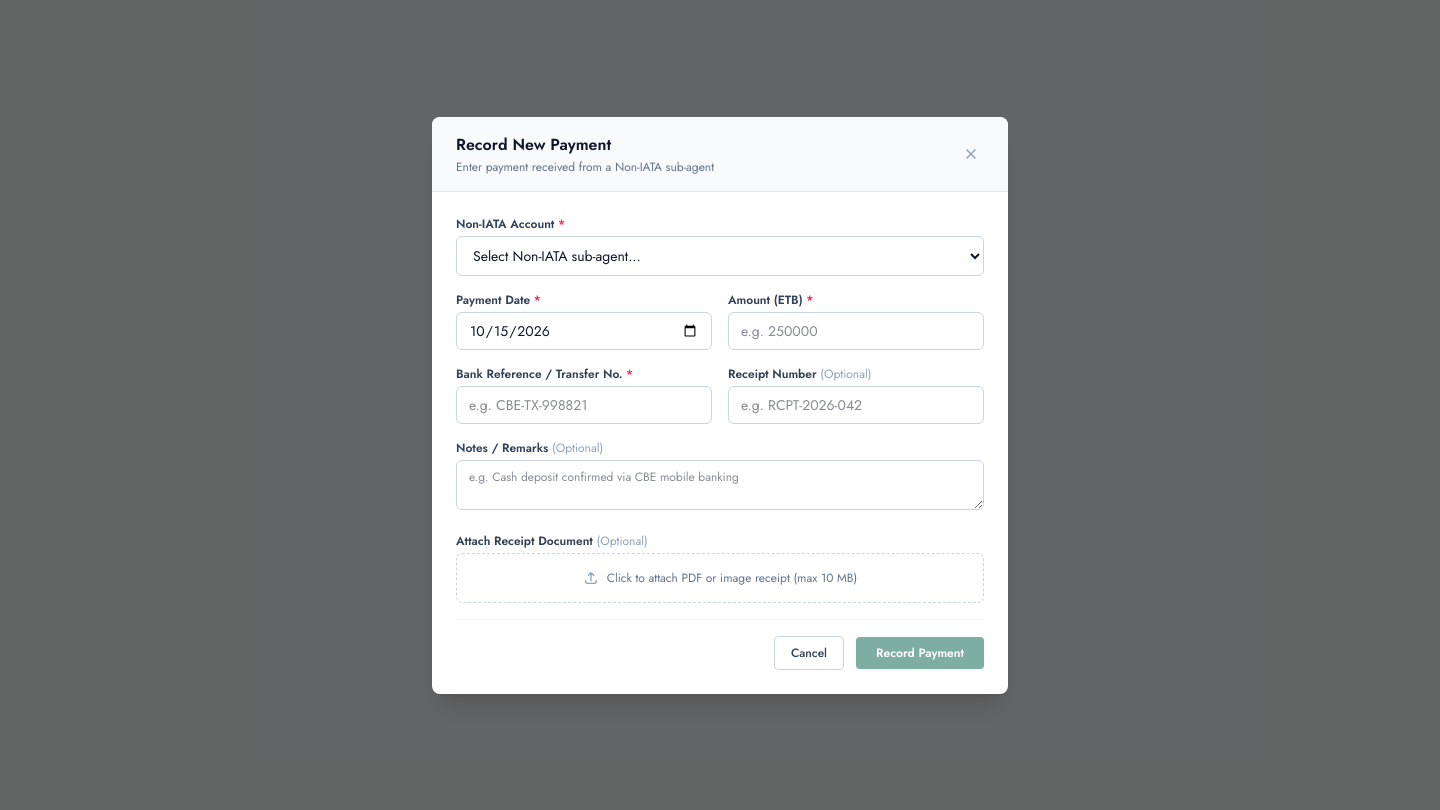
AddPaymentModal › creates payment successfully and displays success screen
Select agency
Select "Bati Dodola (BTD)" in the dropdown at (720, 256), box [456, 236, 984, 276]
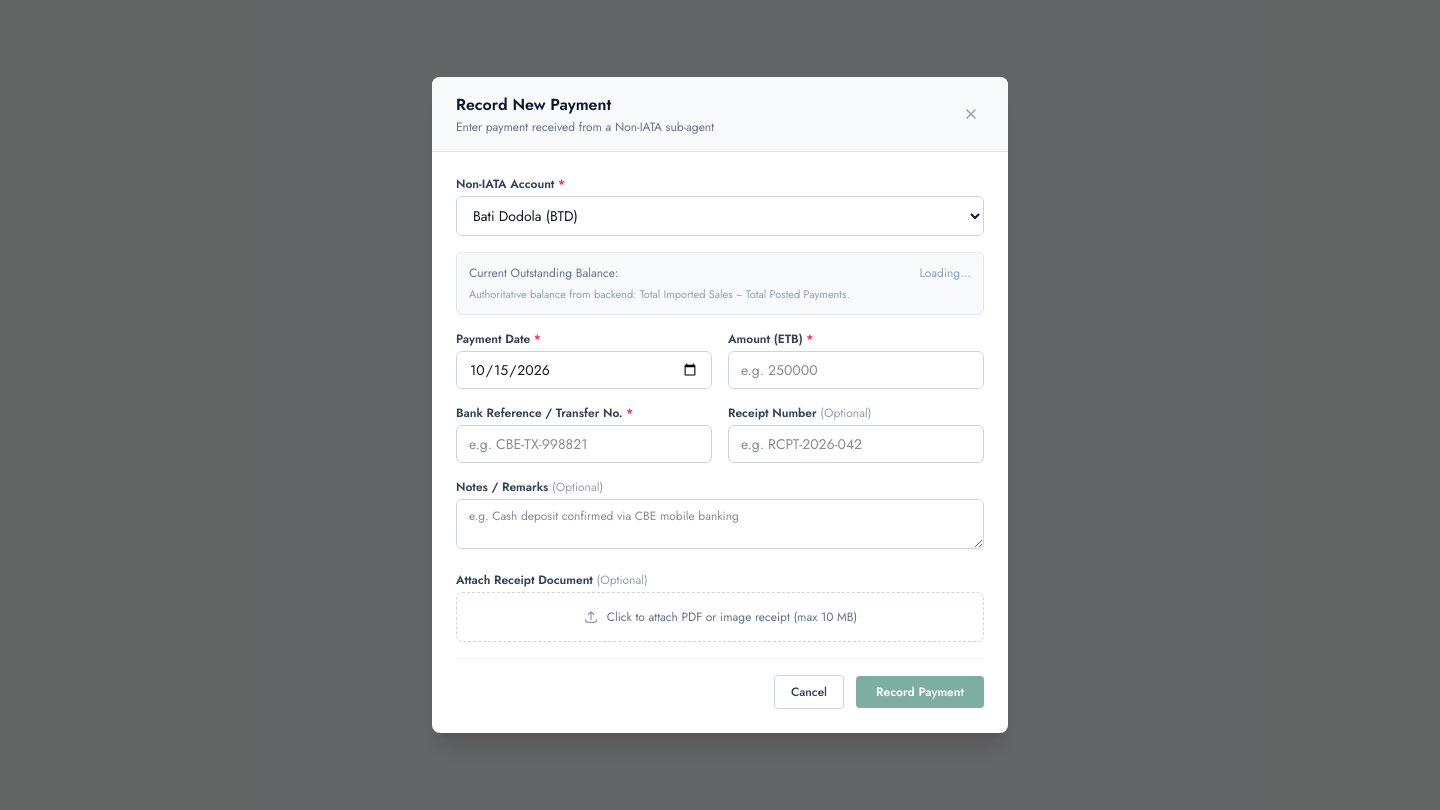
Fill amount and reference
Type "150000" into the number field with placeholder "e.g. 250000" at (856, 370), box [728, 351, 984, 389]
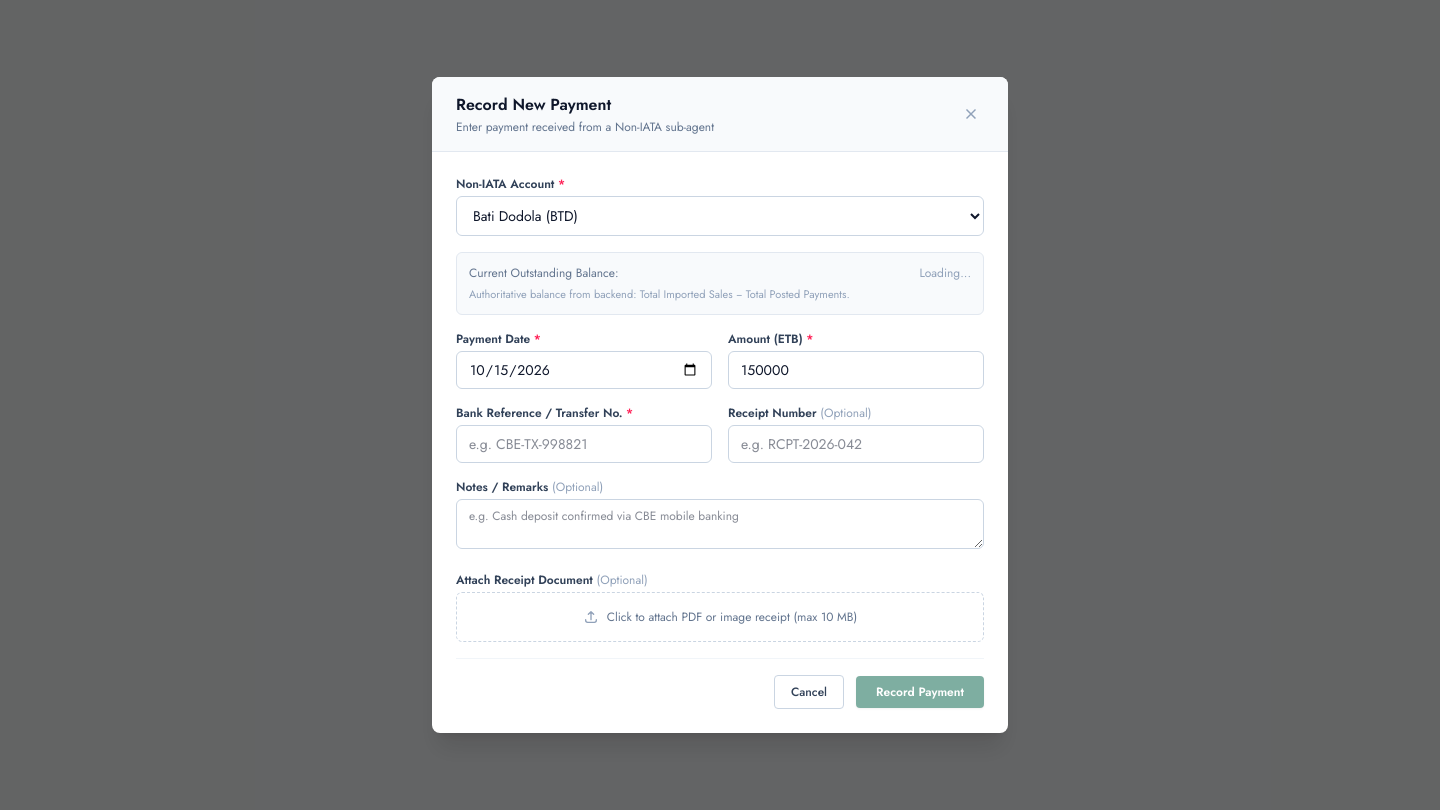
Type "BANK-TRF-55" into the field with placeholder "e.g. CBE-TX-998821" at (584, 444), box [456, 425, 712, 463]
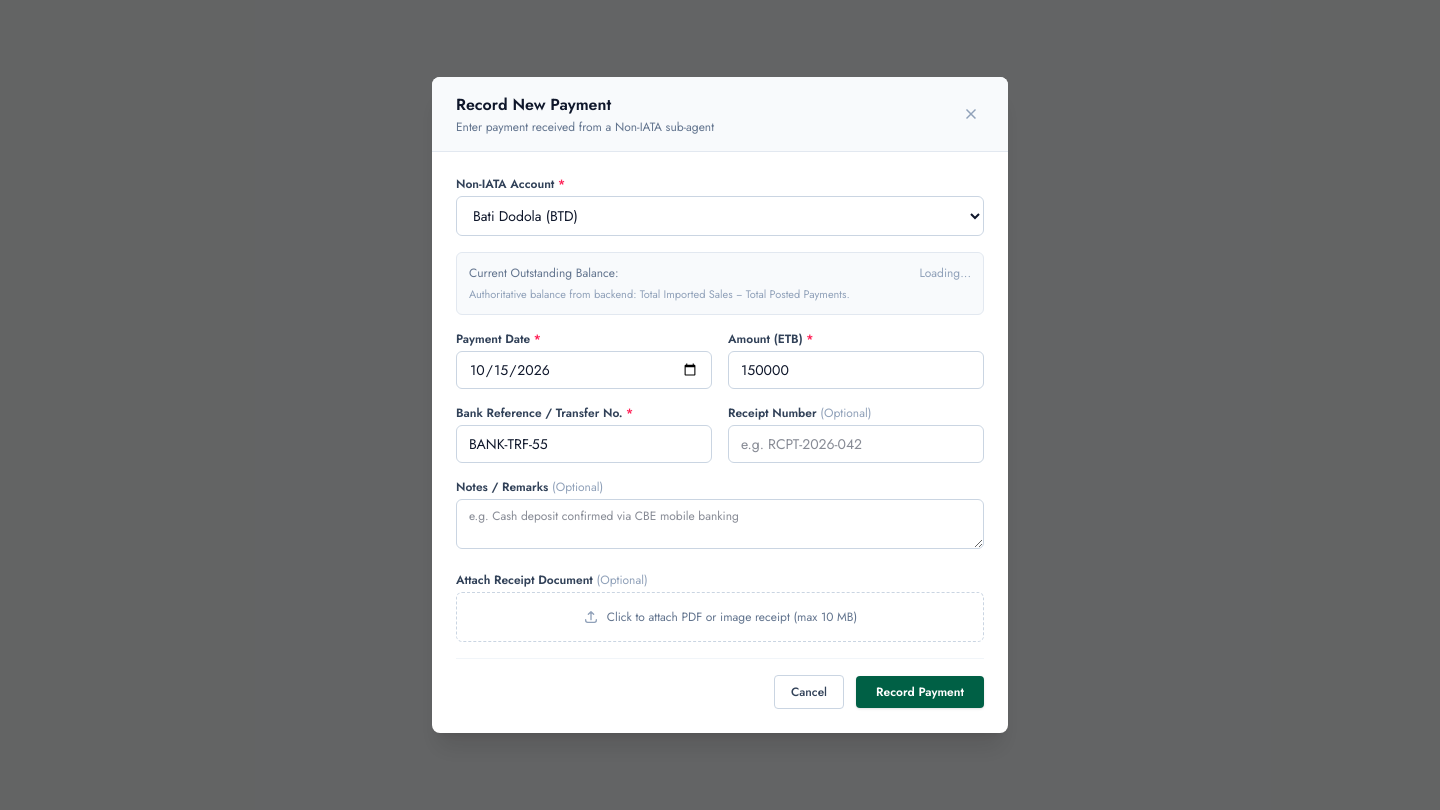
Submit form
Click the button "Record Payment" at (920, 692), box [856, 676, 984, 708]
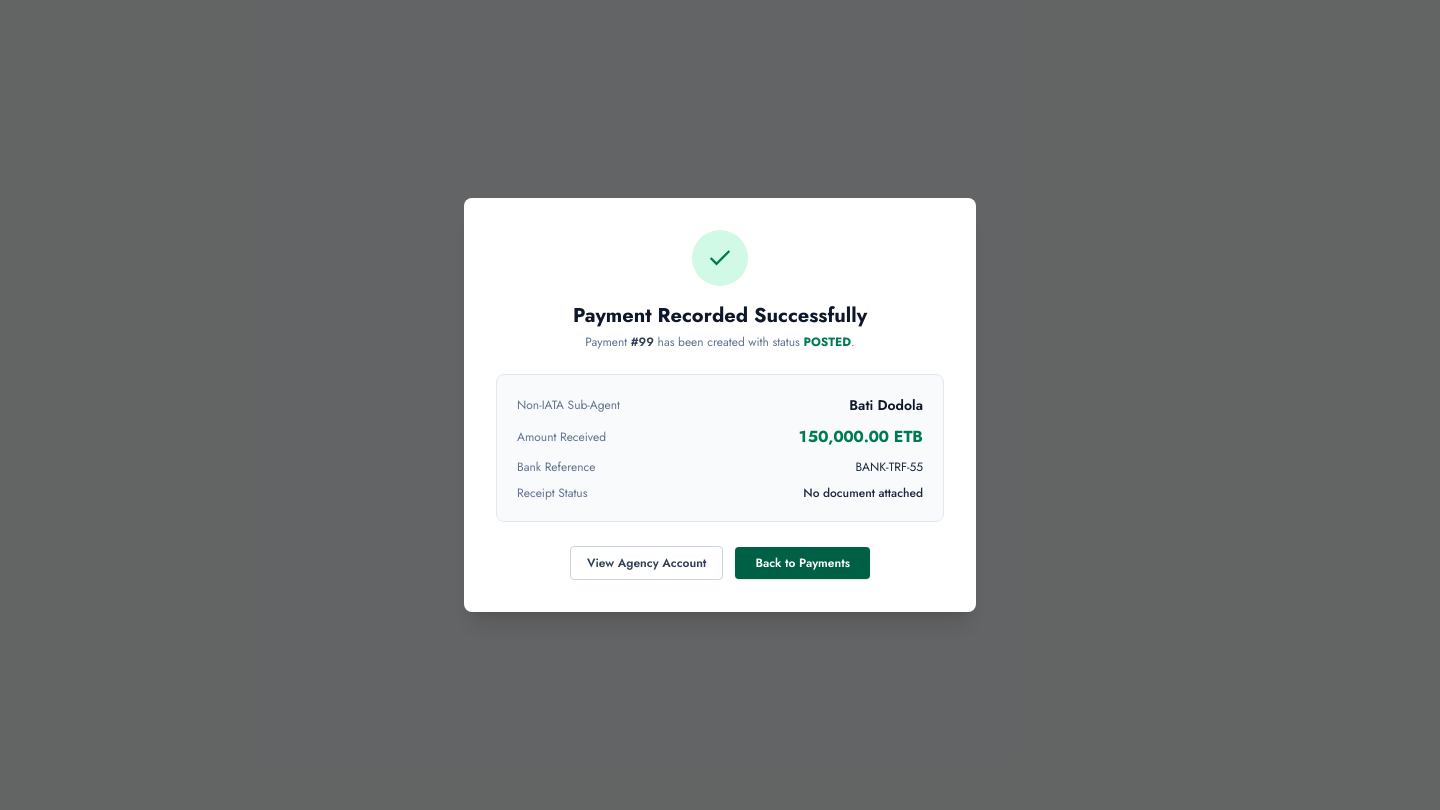
Check: the heading "Payment Recorded Successfully" is shown, box [573, 301, 867, 330]
Check: the text "150,000.00 ETB" is shown, box [798, 425, 923, 449]
